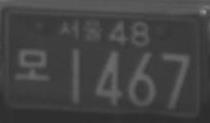1: (62, 46, 90, 105)
4: (94, 48, 124, 106), (105, 18, 129, 46)
6: (127, 50, 157, 109)
7: (159, 50, 193, 111)
8: (130, 19, 151, 48)
모: (13, 47, 51, 82)
서울_O: (58, 17, 104, 44)
